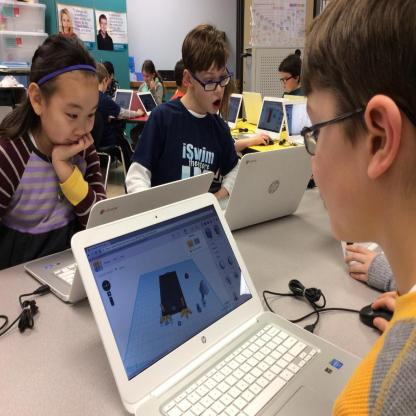board: (70, 193, 364, 416), (26, 169, 213, 303), (225, 144, 316, 230), (231, 96, 287, 141), (283, 100, 320, 146), (218, 95, 243, 126), (111, 89, 134, 115), (137, 92, 158, 114)
